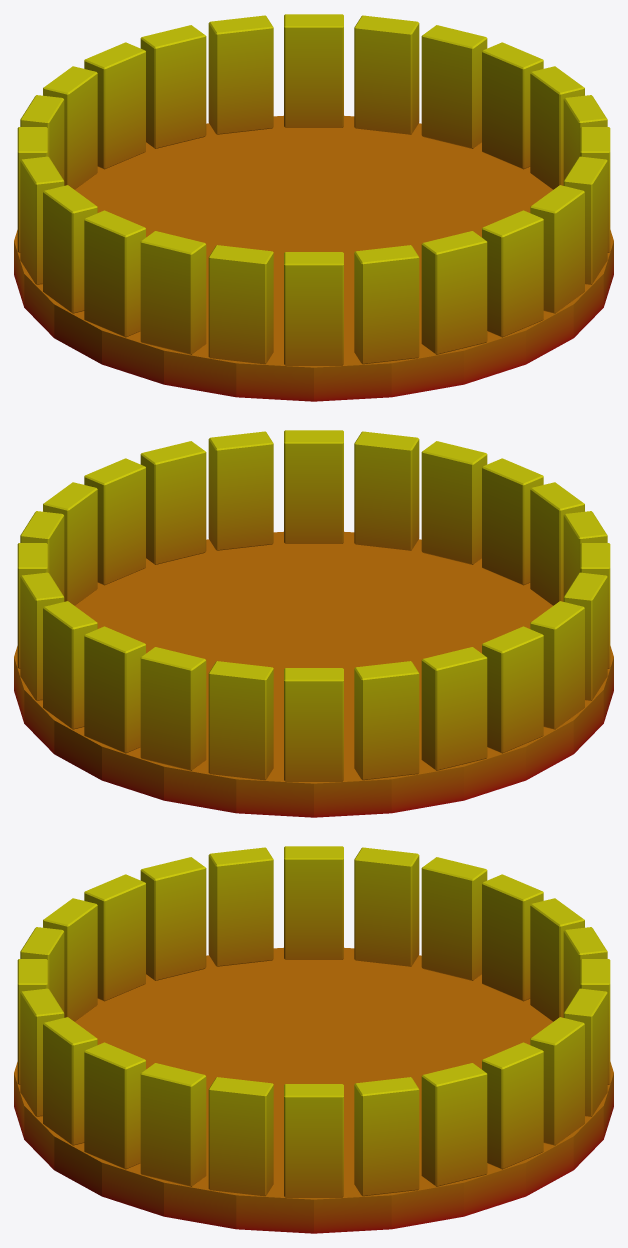
File: tower_crown.glb
3 renders of one model, top to bottom at view 1: azimuth 30°, elevation 25°; view 2: azimuth 150°, elevation 25°; view 3: azimuth 270°, elevation 25°, orthographic.
Parts seen in each view (by area): view 1: tower_crown; view 2: tower_crown; view 3: tower_crown.
Boxes of the visible parts, x1,y1,x2,y2 form: tower_crown: (14,14,613,401); tower_crown: (14,430,613,817); tower_crown: (14,846,613,1233).
Size of what is drawn, in the model's own units: 8 by 2 by 8.
